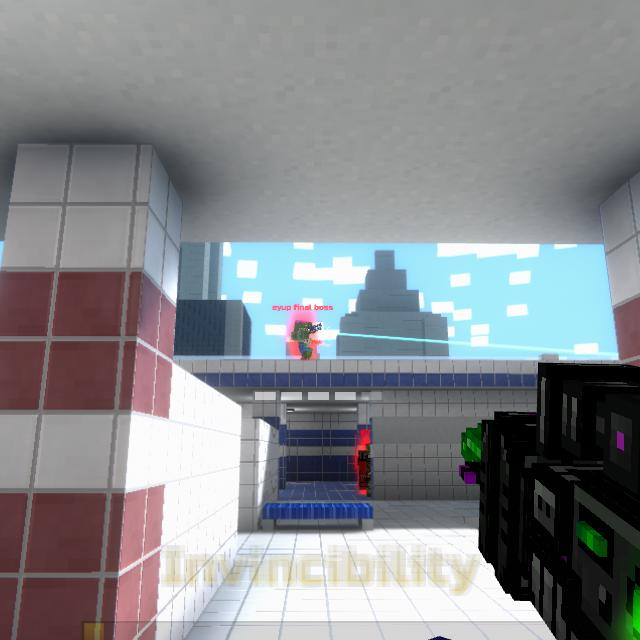Enemy: (291, 319, 313, 359), (357, 444, 371, 497)
